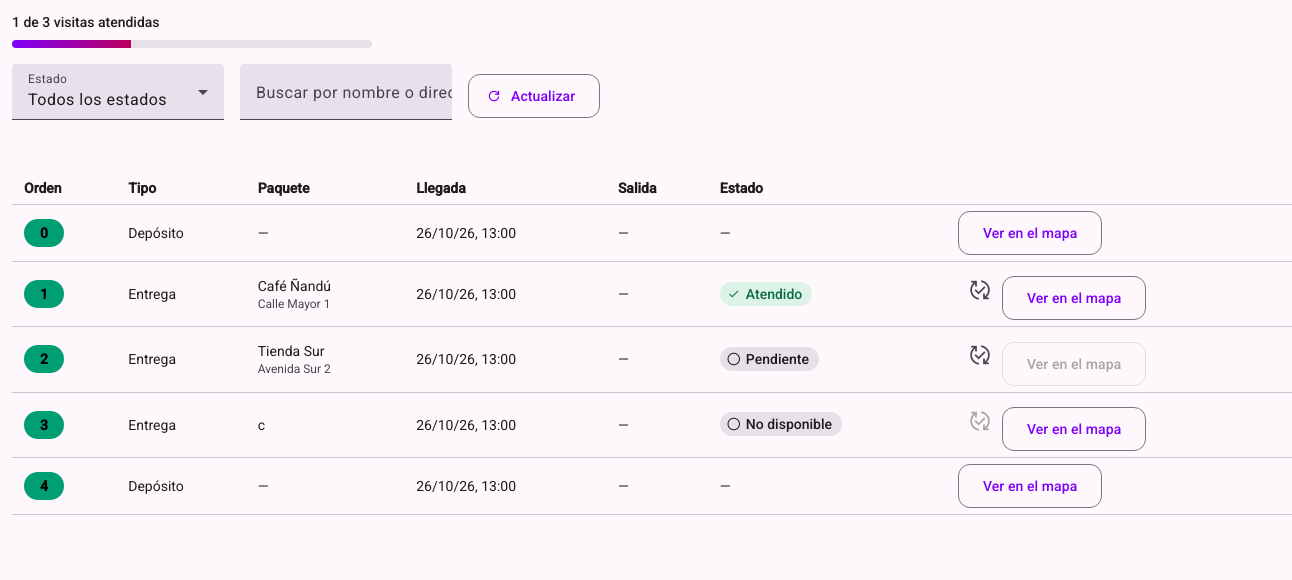
Scenario: RouteVisitsComponent › avance y cambio de estado › cambia el estado, avisa y recalcula el avance
Click the button named "Cambiar el estado de la visita Tienda Sur" at (980,355), box x1=958 y1=333 x2=1002 y2=377
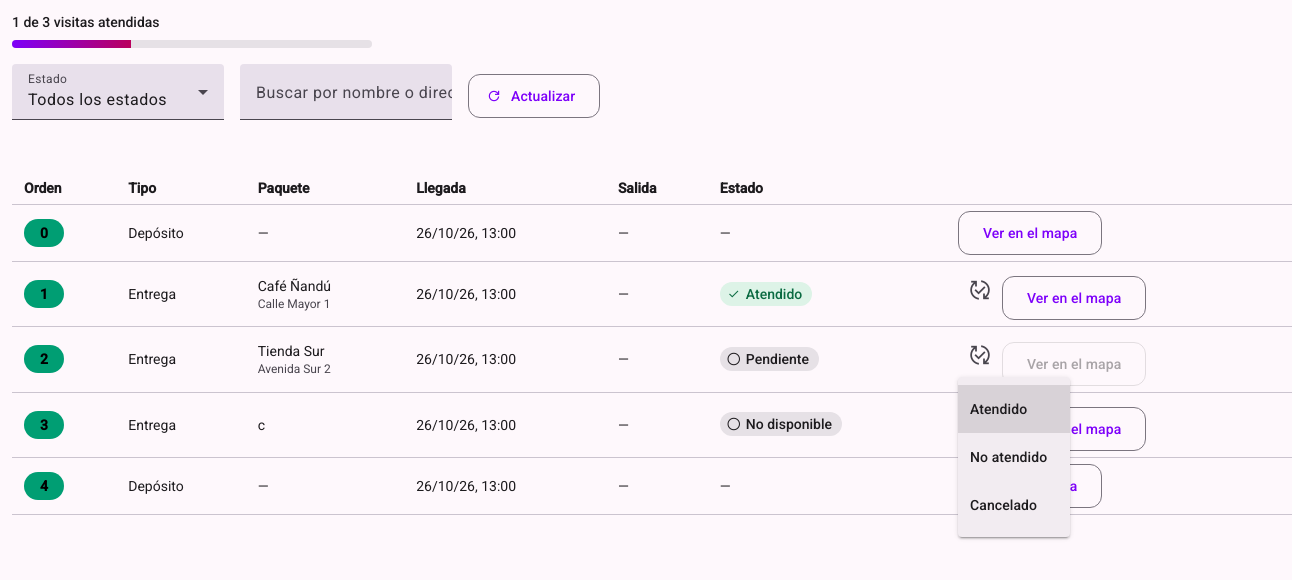
Click the menu item "Atendido" at (1014,409), box x1=958 y1=385 x2=1070 y2=433
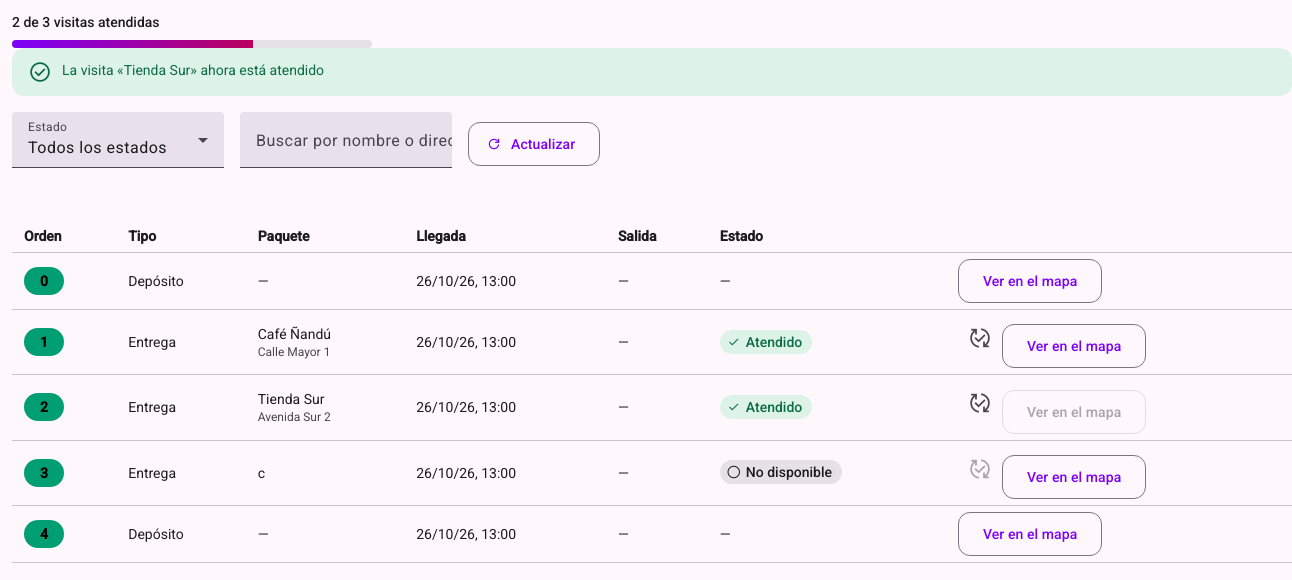
Expected: the text "2 de 3 visitas atendidas" is shown, x1=12 y1=14 x2=160 y2=30
Expected: the message with class "success" reads "La visita «Tienda Sur» ahora está atendido", x1=62 y1=62 x2=324 y2=78
